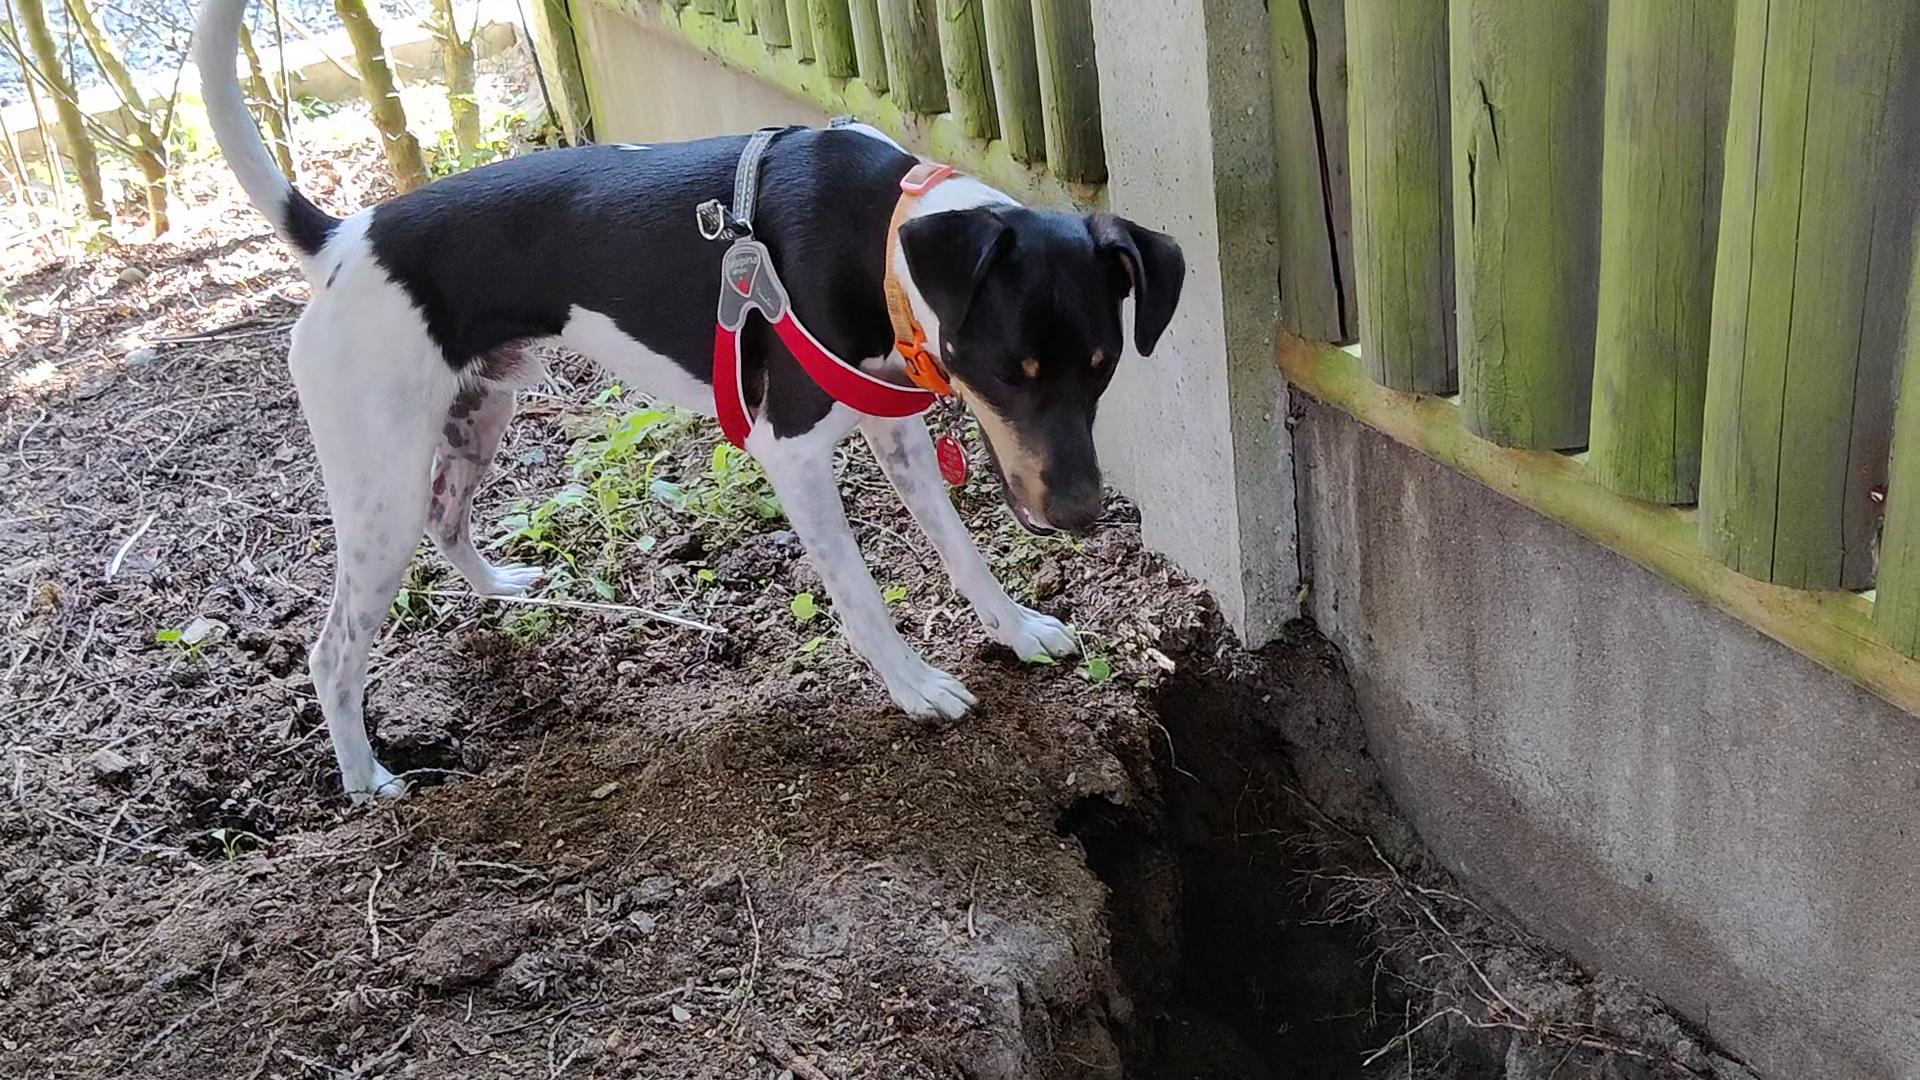Dog: (175, 0, 1201, 822)
